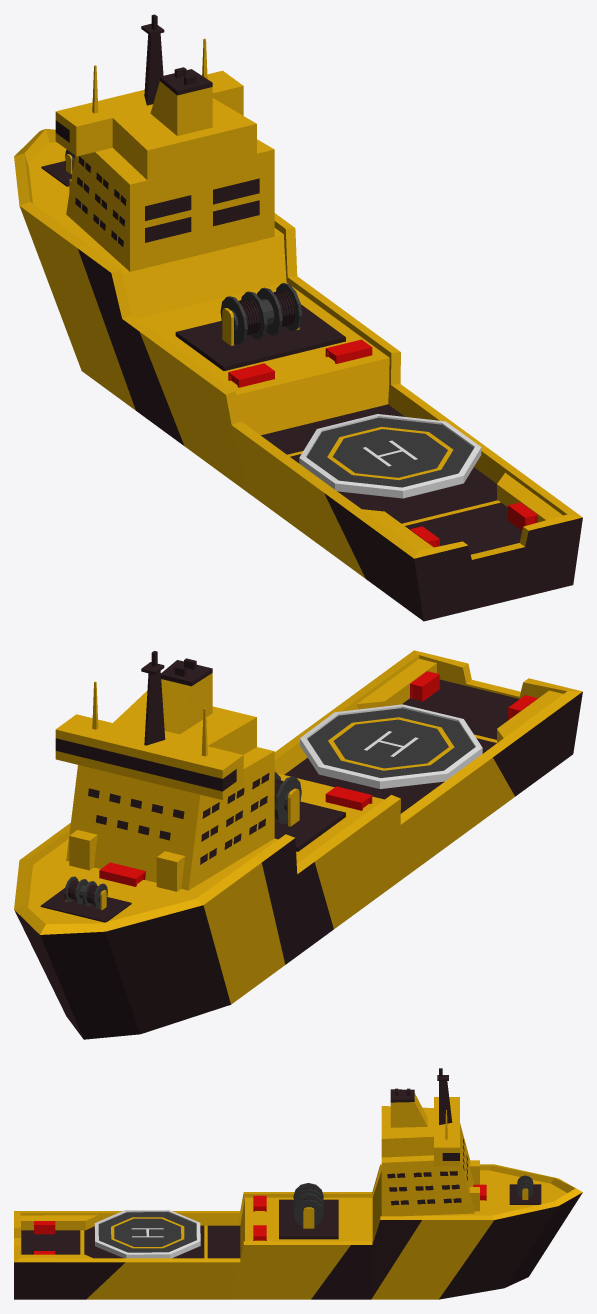
File: ship.fbx
3 views of the same model, one above another, from view 1: azimuth 30°, elevation 25°; view 2: azimuth 150°, elevation 25°; view 3: azimuth 270°, elevation 25° (orthographic). The views are drawn at different scales.
Parts seen in each view (by area): view 1: Cube.003, Cube.004, Cube.011, Cube.013, Cylinder, Cube.007, Cube.012, Cylinder.001, Cylinder.002, Cube, Cube.006, Cube.016 (+2 smaller); view 2: Cube.003, Cube.011, Cube.004, Cube.012, Cylinder, Cube.013, Cylinder.001, Cube, Cube.019, Cube.007, Cube.016, Cube.009 (+6 smaller); view 3: Cube.003, Cube.004, Cube.011, Cylinder, Cube.013, Cube.007, Cube.012, Cube, Cylinder.001, Cylinder.002, Cube.016, Cube.009 (+4 smaller).
Part boxes in pixels (x1,y1,x2,y2): Cube.003: (14, 129, 582, 621); Cube.004: (28, 142, 521, 554); Cube.011: (66, 139, 274, 271); Cube.013: (103, 81, 256, 180); Cylinder: (306, 417, 473, 487); Cube.007: (175, 304, 345, 370); Cube.012: (55, 70, 243, 156); Cylinder.001: (299, 414, 481, 498); Cylinder.002: (220, 283, 302, 344); Cube: (362, 472, 562, 550); Cube.006: (228, 339, 372, 387); Cube.016: (141, 14, 164, 105); Cube.003: (14, 650, 582, 1039); Cube.011: (66, 747, 274, 890); Cube.004: (28, 679, 519, 924); Cube.012: (55, 714, 243, 799); Cylinder: (307, 708, 474, 777); Cube.013: (105, 673, 256, 754); Cylinder.001: (300, 704, 482, 788); Cube: (357, 659, 563, 742); Cube.019: (69, 830, 185, 891); Cube.007: (274, 801, 345, 851); Cube.016: (141, 651, 165, 745); Cube.009: (40, 888, 131, 922); Cube.003: (14, 1164, 582, 1299); Cube.004: (21, 1170, 567, 1258); Cube.011: (381, 1123, 474, 1216); Cylinder: (98, 1212, 196, 1252); Cube.013: (381, 1093, 449, 1157); Cube.007: (279, 1199, 338, 1239); Cube.012: (434, 1097, 459, 1166); Cube: (20, 1215, 97, 1258); Cylinder.001: (94, 1209, 200, 1258); Cylinder.002: (293, 1183, 323, 1226); Cube.016: (437, 1068, 452, 1124); Cube.009: (509, 1184, 541, 1204).
Size of the model in its own units: 459 by 799 by 1980.
